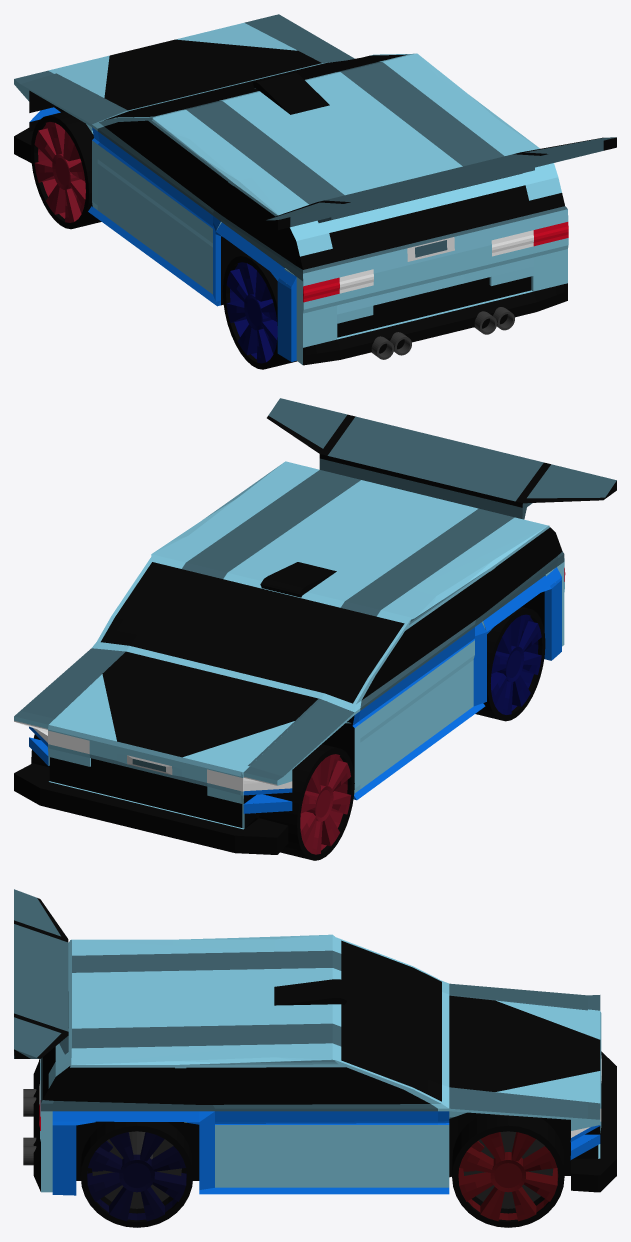
File: car all no.fbx
3 renders of one model, top to bottom at view 1: azimuth 30°, elevation 25°; view 2: azimuth 150°, elevation 25°; view 3: azimuth 270°, elevation 25°, orthographic. The views are drawn at different scales.
Parts seen in each view (by area): view 1: frame, tire1, tire2; view 2: frame, tire1, tire2; view 3: frame, tire3, tire4.
Boxes of the visible parts, bbox=[...] form: frame: bbox=[14, 14, 616, 365]; tire1: bbox=[31, 111, 101, 229]; tire2: bbox=[222, 254, 296, 369]; frame: bbox=[14, 398, 616, 854]; tire1: bbox=[245, 744, 354, 860]; tire2: bbox=[475, 607, 545, 721]; frame: bbox=[14, 889, 616, 1195]; tire3: bbox=[452, 1113, 564, 1227]; tire4: bbox=[80, 1121, 193, 1227].
Bounding box in the file's own units: 471 × 267 × 750.
